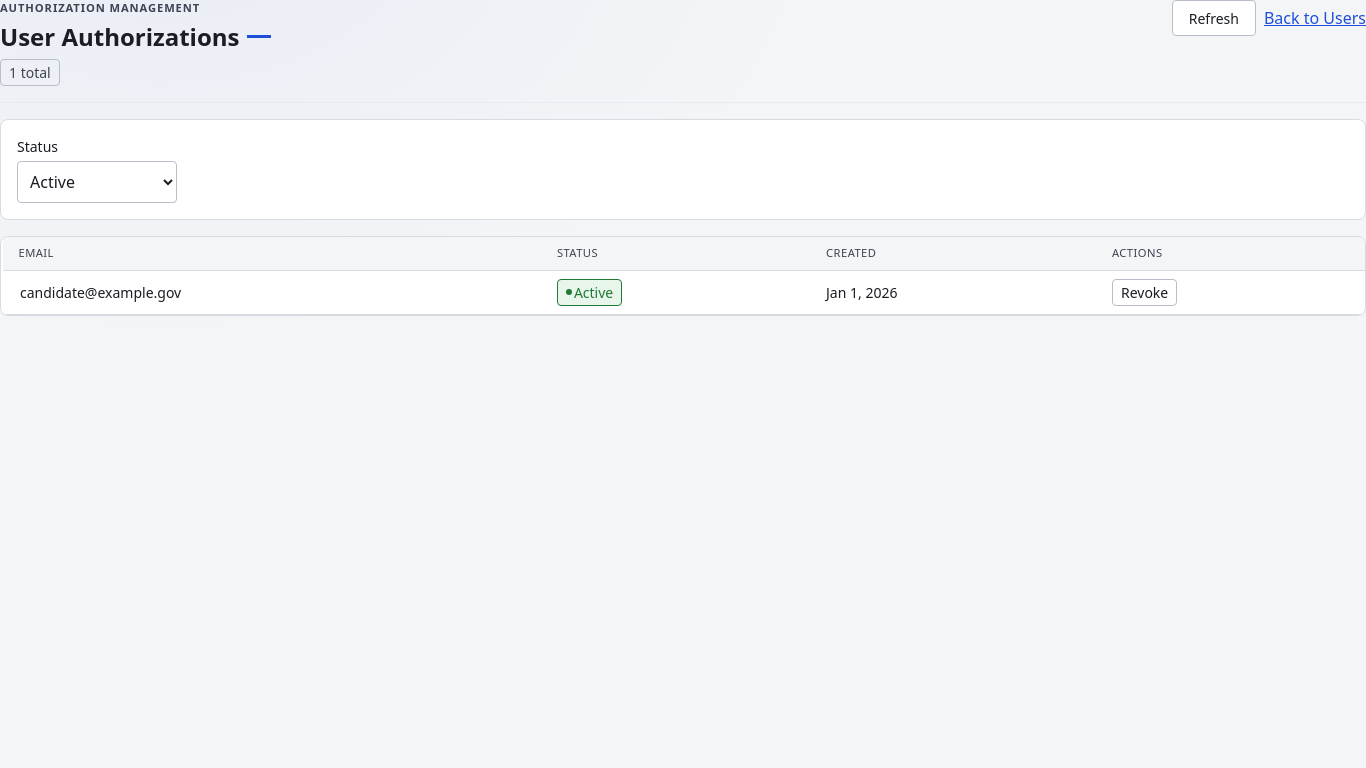
Test: UserAuthorizationsPage › shows a 409 when the authorization was already used (a race)
Check: the column heading "candidate@example.gov" is shown, box [2,270,541,314]
Step 1. Click the button "Revoke" → (1145, 292), box [1112,279,1177,306]
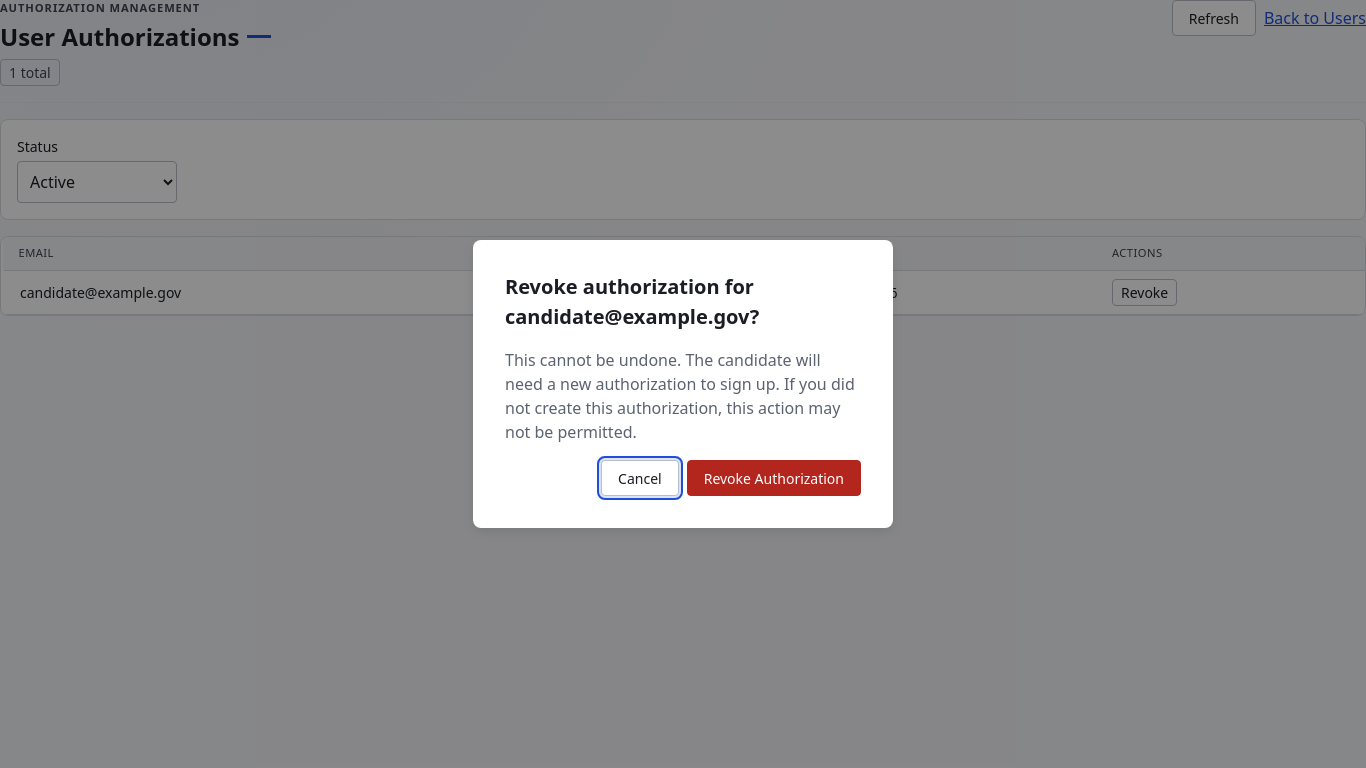
Step 2. Click the button "Revoke Authorization" → (774, 478), box [687,460,861,496]
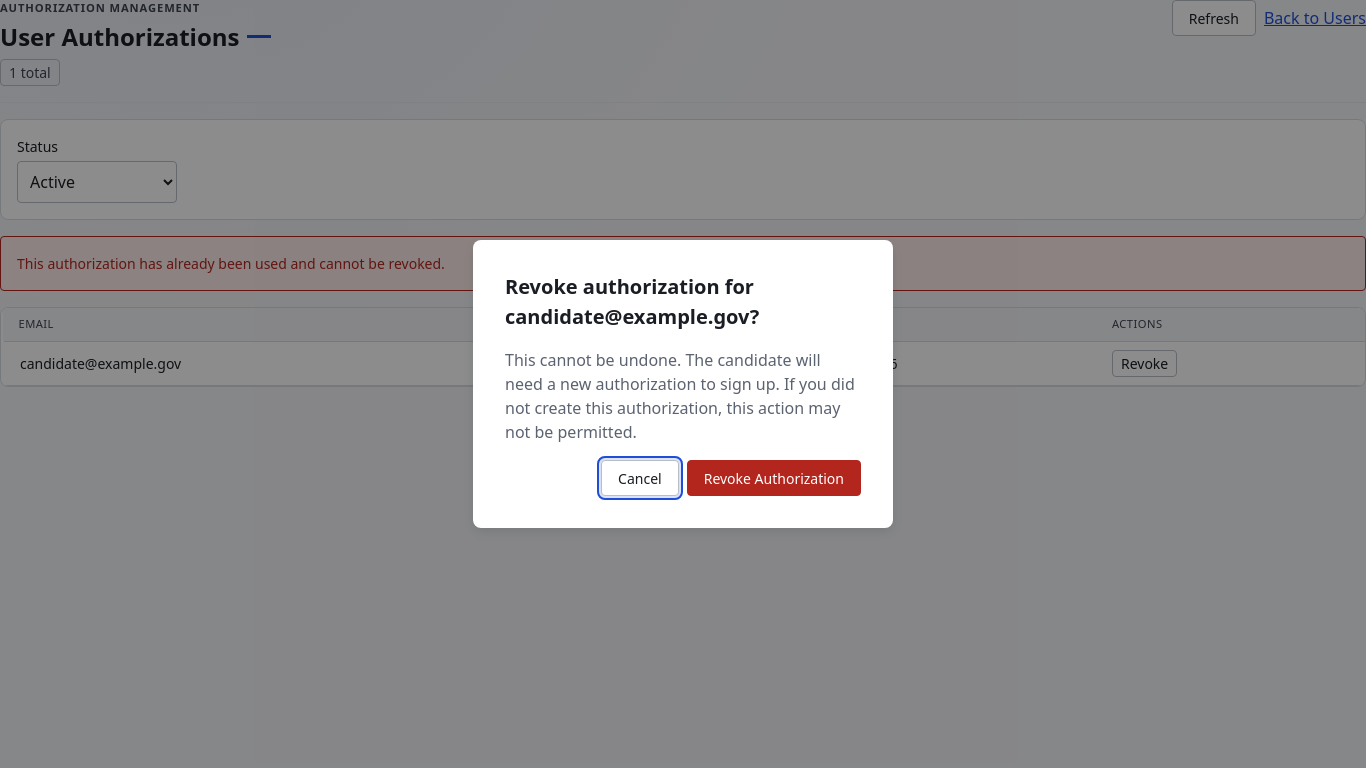
Check: the message shows "already been used", box [17,254,445,273]
